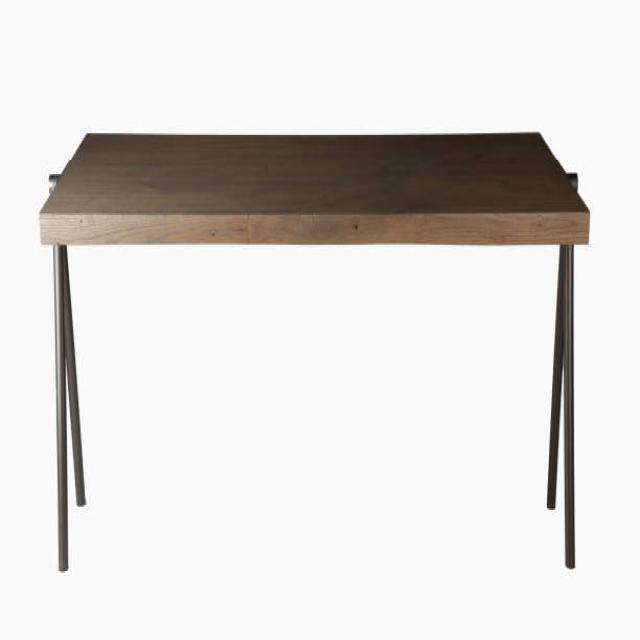table: (38, 128, 590, 572)
